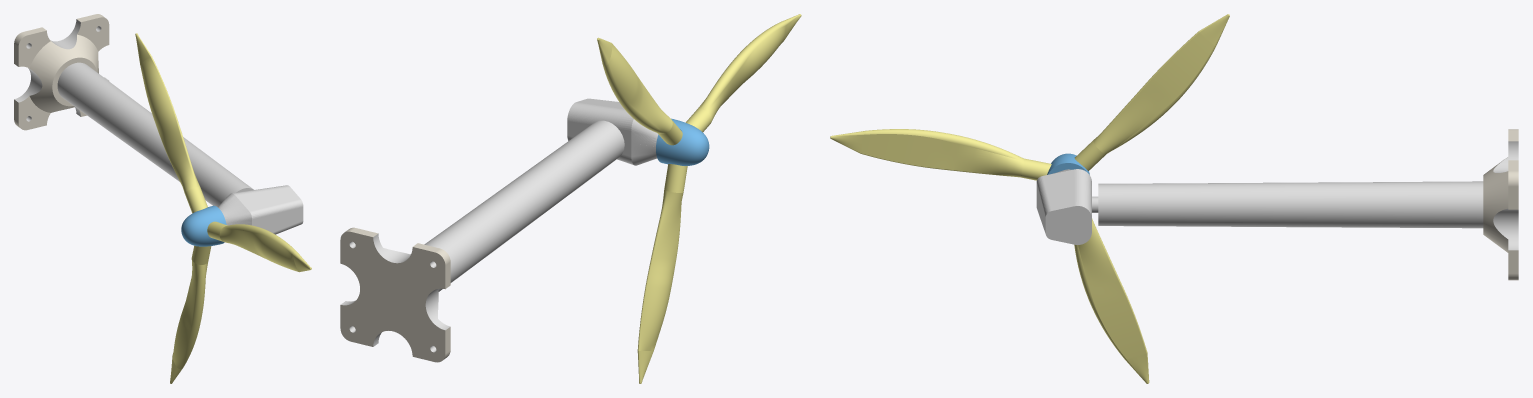
File: windmill5.fbx
3 renders of one model, left to right at view 1: azimuth 30°, elevation 25°; view 2: azimuth 150°, elevation 25°; view 3: azimuth 270°, elevation 25°, orthographic. The views are drawn at different scales.
Parts seen in each view (by area): view 1: Must.002, WindTurbine.003, Blade.002, R_Housing.002, Blade2.002, Blade1.002, Rotor.002, L_Housing.002; view 2: WindTurbine.003, Must.002, Blade2.002, Blade.002, Blade1.002, R_Housing.002, Rotor.002, L_Housing.002; view 3: Must.002, Blade1.002, Blade.002, Blade2.002, WindTurbine.003, R_Housing.002, L_Housing.002.
Boxes of the visible parts, <box> form: Must.002: <box>57,62,253,206</box>; WindTurbine.003: <box>14,14,109,130</box>; Blade.002: <box>135,33,207,213</box>; R_Housing.002: <box>218,185,303,227</box>; Blade2.002: <box>170,245,211,383</box>; Blade1.002: <box>207,221,311,272</box>; Rotor.002: <box>181,205,226,246</box>; L_Housing.002: <box>260,214,303,234</box>; WindTurbine.003: <box>340,227,450,362</box>; Must.002: <box>410,120,624,291</box>; Blade2.002: <box>637,164,687,383</box>; Blade.002: <box>597,37,682,145</box>; Blade1.002: <box>686,14,801,132</box>; R_Housing.002: <box>567,98,658,146</box>; Rotor.002: <box>656,118,709,165</box>; L_Housing.002: <box>567,128,657,165</box>; Must.002: <box>1092,181,1483,228</box>; Blade1.002: <box>830,129,1051,180</box>; Blade.002: <box>1074,14,1229,170</box>; Blade2.002: <box>1074,218,1149,383</box>; WindTurbine.003: <box>1483,129,1518,280</box>; R_Housing.002: <box>1036,169,1091,225</box>; L_Housing.002: <box>1036,195,1091,244</box>.
Bounding box in the file's own units: 13298 × 34764 × 58622.
